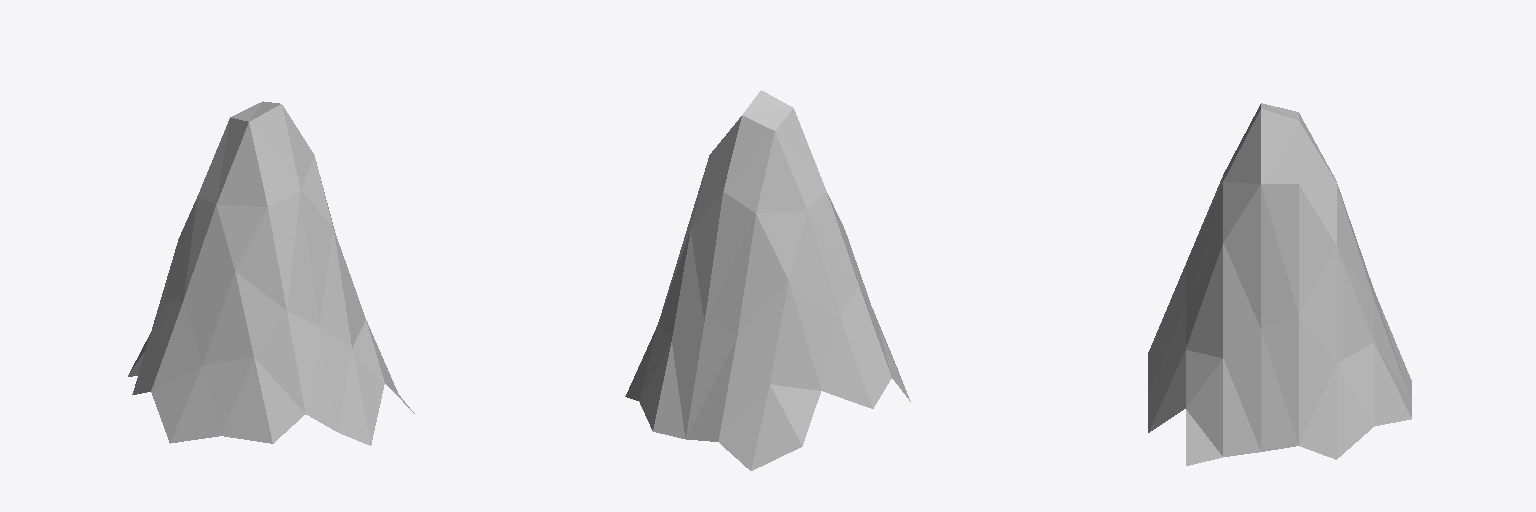
Rendered from tree_26.obj.
3 renders of one model, left to right at view 1: azimuth 30°, elevation 25°; view 2: azimuth 150°, elevation 25°; view 3: azimuth 270°, elevation 25°, orthographic.
Parts seen in each view (by area): view 1: tree_26.001; view 2: tree_26.001; view 3: tree_26.001.
Part boxes in pixels (left/top/right/bottom): tree_26.001: left=128, top=101, right=414, bottom=445; tree_26.001: left=625, top=90, right=910, bottom=470; tree_26.001: left=1148, top=103, right=1411, bottom=465.
Size of the model in its own units: 7 by 9.07 by 7.